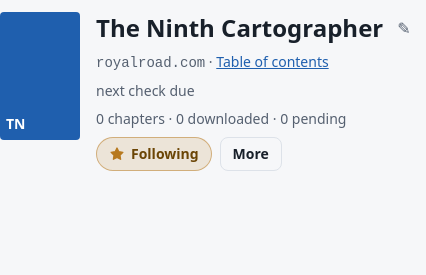
Test case: NovelHeader › Sync › More → Sync sends POST /sync and closes the menu
Click the button "More": point(251, 154) [220,137,282,171]
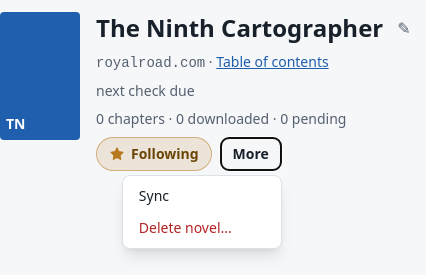
Click the button "Sync": point(202, 196) [127,180,277,212]
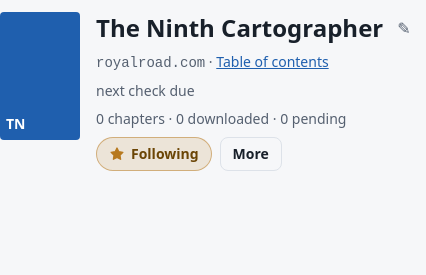
Expected: the button "Delete novel…" is gone
